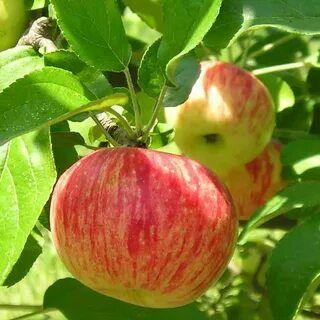Apple: (50, 148, 238, 310), (170, 63, 277, 171)
